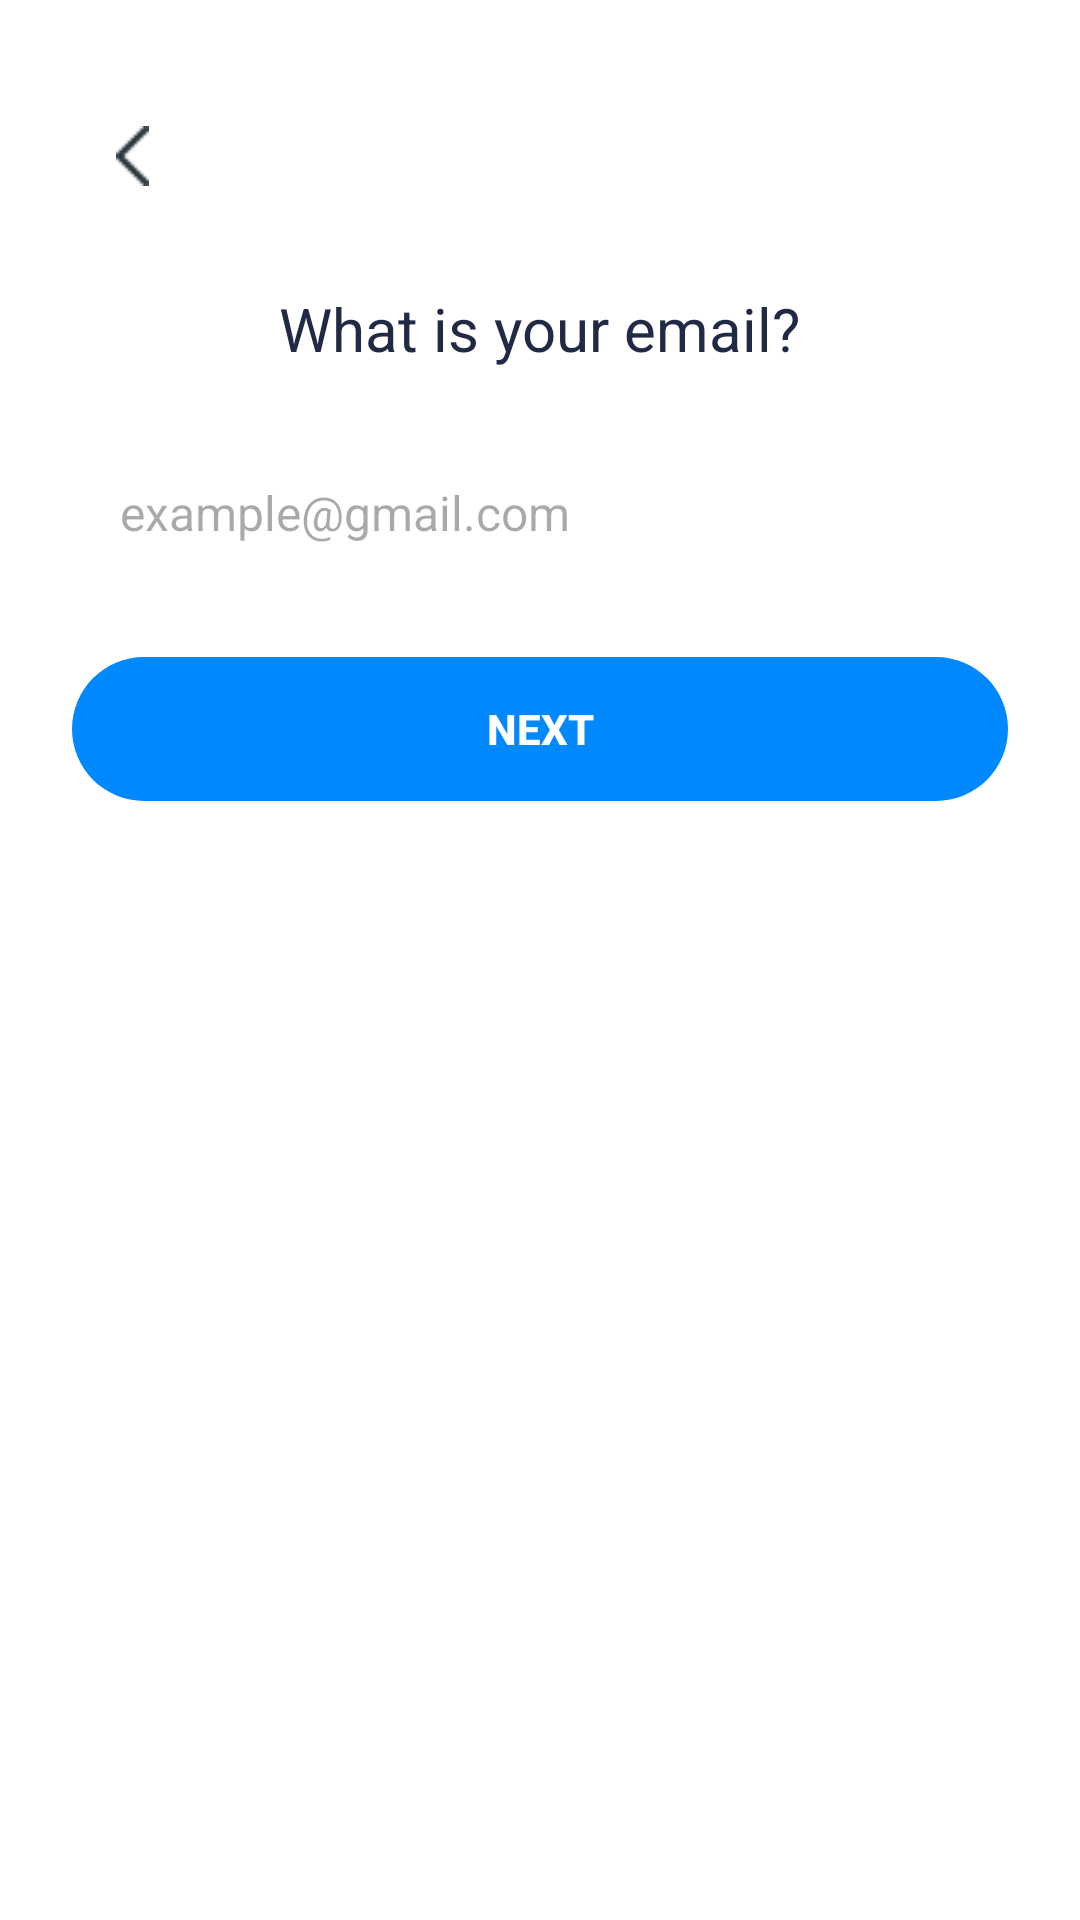

Icon click points for this 1080px×1920px phone screenshot, format point (x, y):
Back: point (132, 156)
